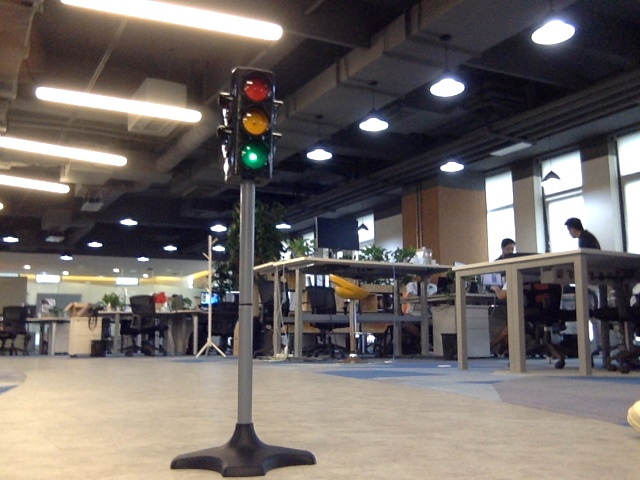green: (235, 75, 266, 173)
